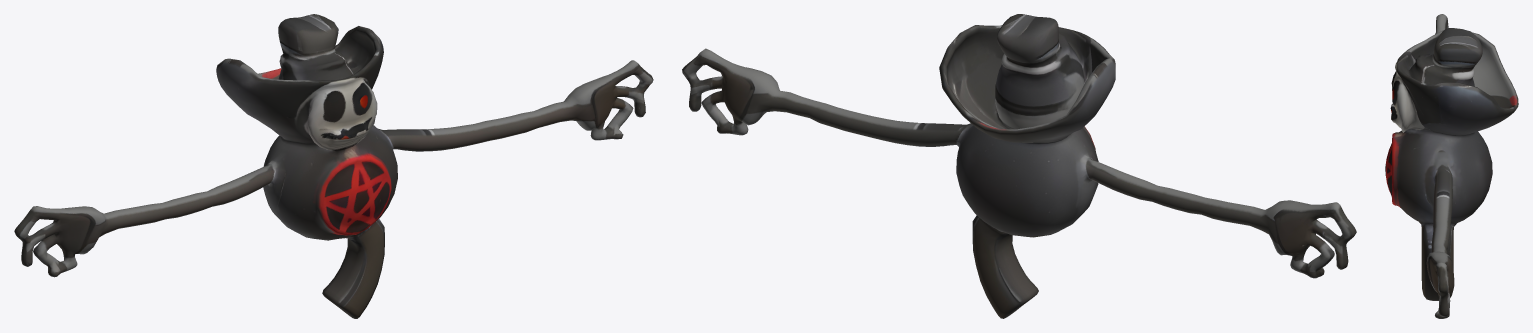
File: prototip_torso.glb
3 views of the same model, side by side, from view 1: azimuth 30°, elevation 25°; view 2: azimuth 150°, elevation 25°; view 3: azimuth 270°, elevation 25° (orthographic). The views are drawn at different scales.
Parts seen in each view (by area): view 1: tripo_node_56332b2e; view 2: tripo_node_56332b2e; view 3: tripo_node_56332b2e.
Part boxes in pixels (bbox=[...]): tripo_node_56332b2e: bbox=[14, 14, 653, 318]; tripo_node_56332b2e: bbox=[682, 14, 1356, 318]; tripo_node_56332b2e: bbox=[1385, 14, 1518, 318].
Bounding box in the file's own units: 99.95 × 44.46 × 21.23.
Materials: 1 (1 with a texture image).
